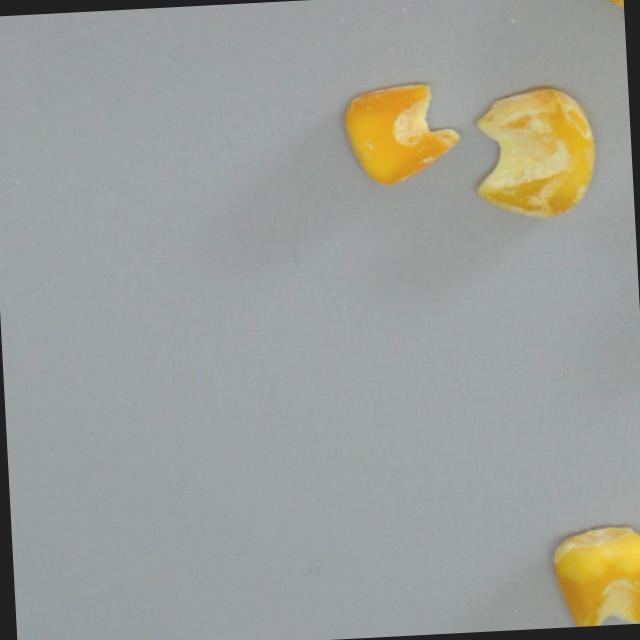pelicula: (472, 82, 599, 225), (342, 82, 465, 191), (552, 526, 640, 628), (590, 0, 625, 27)
